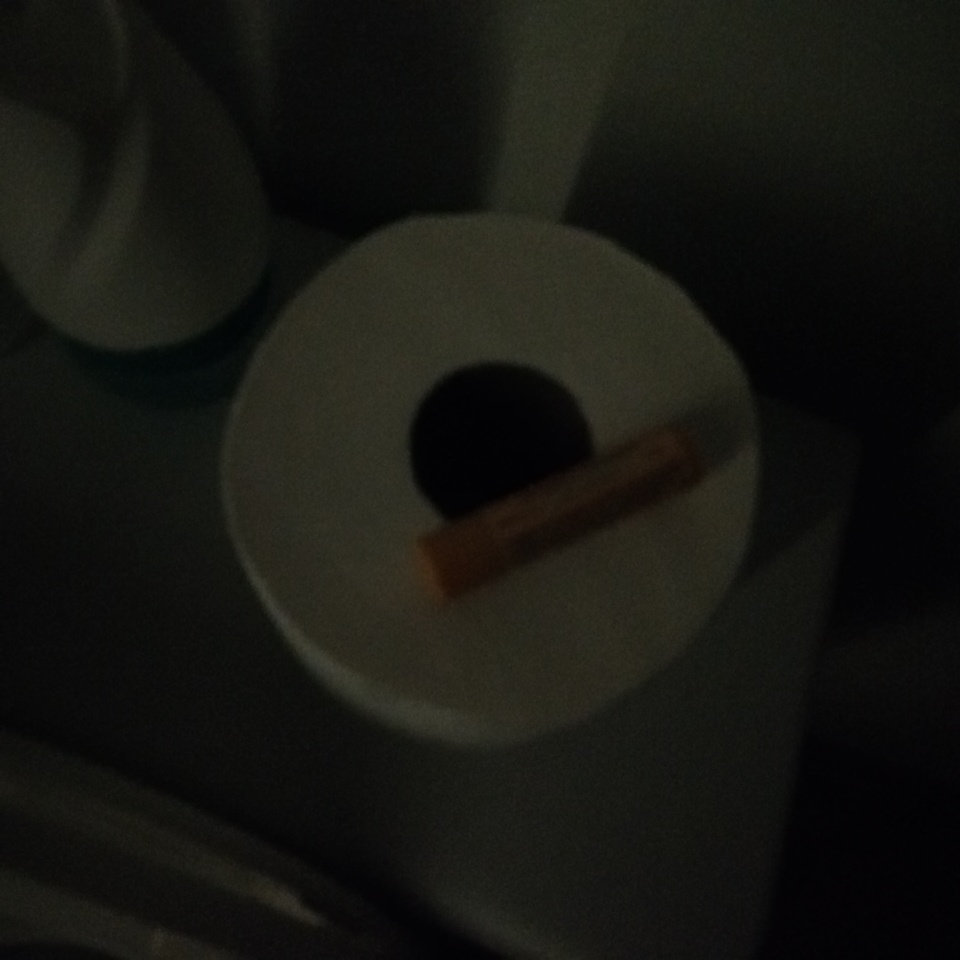chapstick: (414, 422, 706, 610)
